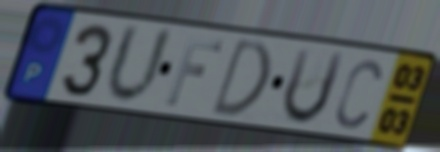3: (59, 21, 114, 99)
C: (333, 56, 384, 131)
D: (206, 35, 273, 118)
F: (162, 34, 227, 109)
U: (102, 21, 177, 109), (280, 45, 349, 128)
